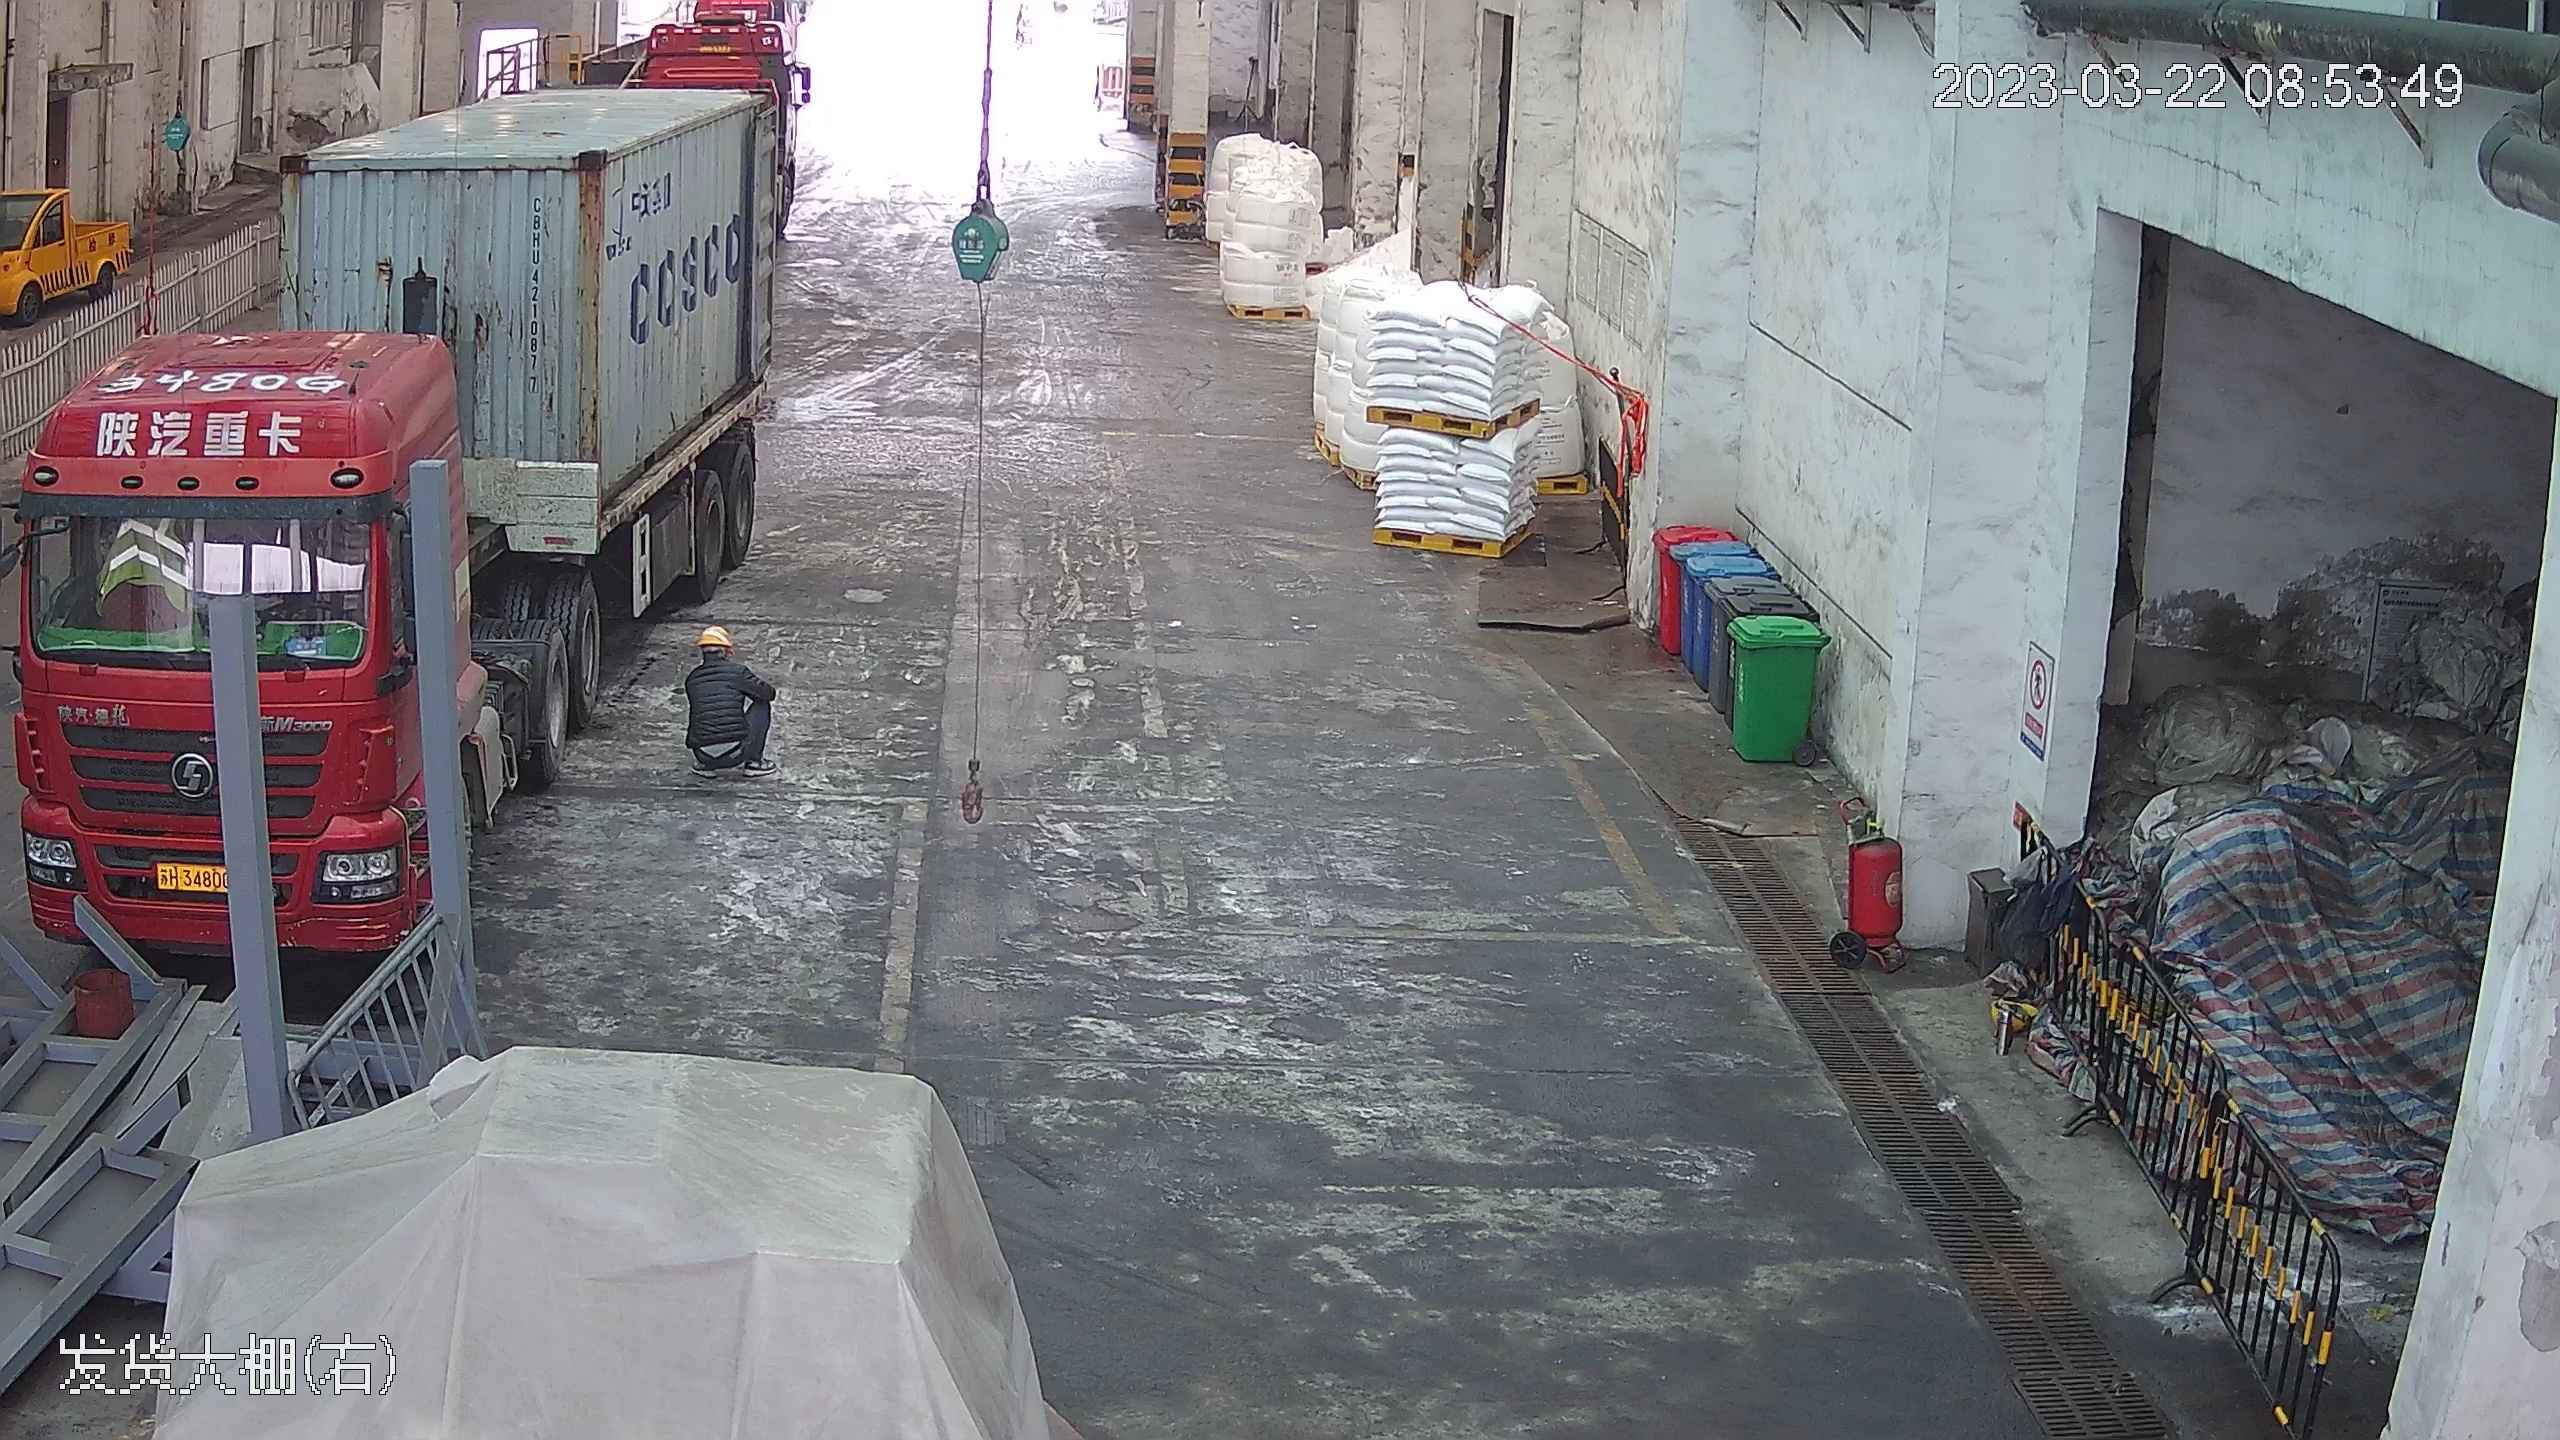head: (685, 623, 755, 694)
helmet: (693, 623, 735, 651)
people: (678, 621, 769, 780)
truck: (22, 18, 787, 974)
